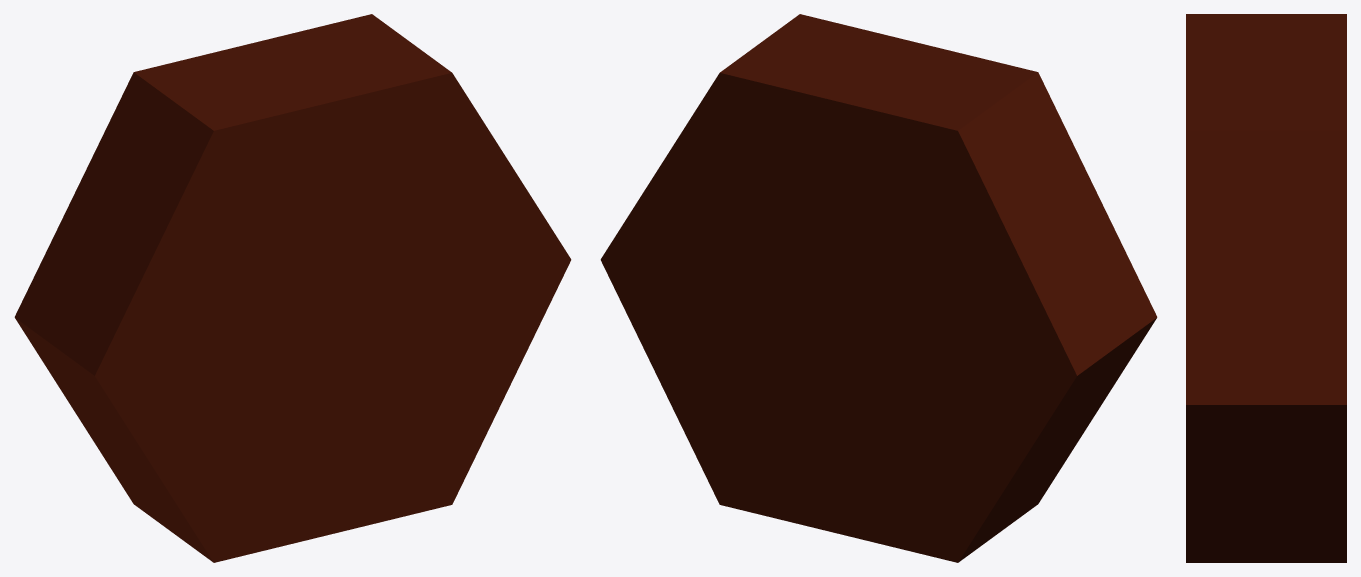
The model's file is burn_barrel.glb.
The picture shows the model from 3 angles, left to right: view 1: azimuth 30°, elevation 25°; view 2: azimuth 150°, elevation 25°; view 3: azimuth 270°, elevation 25°; orthographic projection.
Visible parts, largest first — view 1: burn_flame; view 2: burn_flame; view 3: burn_flame.
Boxes of the visible parts, x1,y1,x2,y2 form: burn_flame: [14, 14, 571, 562]; burn_flame: [600, 14, 1157, 562]; burn_flame: [1186, 14, 1346, 562].
Size of the model in its own units: 4.8 by 4.16 by 1.4.
1 material, 1 textured.
